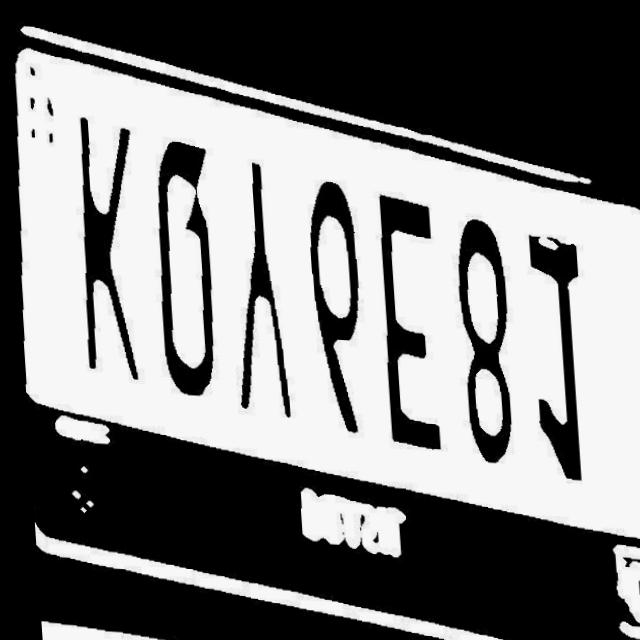1: (521, 199, 595, 485)
6: (299, 153, 380, 450)
8: (448, 183, 527, 469)
e: (369, 171, 452, 463)
k: (65, 90, 153, 397)
q: (143, 116, 230, 414)
y: (220, 140, 298, 431)
